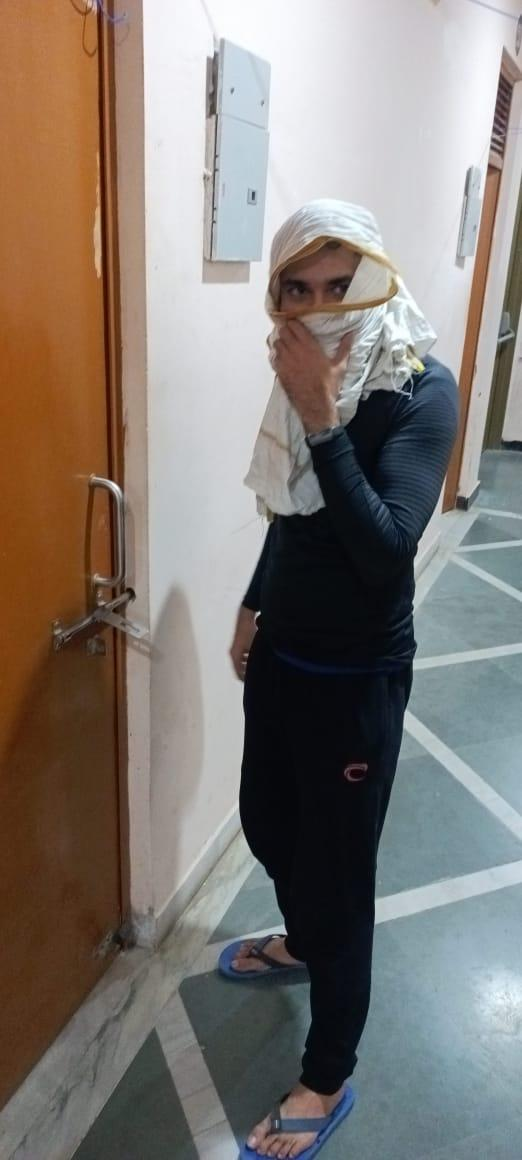suspicion: (180, 173, 503, 1160)
